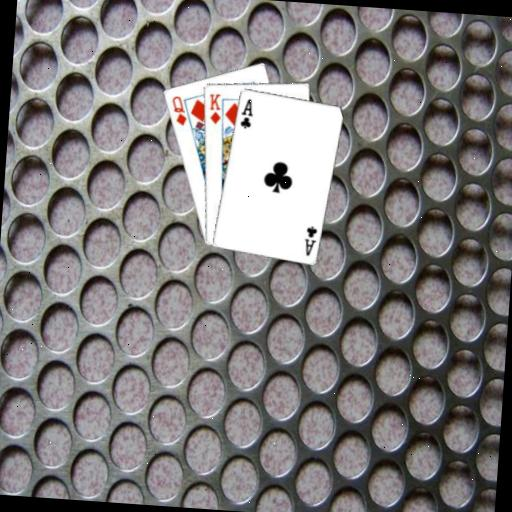AC: (236, 96, 255, 131), (301, 222, 320, 257)
KD: (204, 89, 223, 126)
QD: (167, 92, 190, 127)
